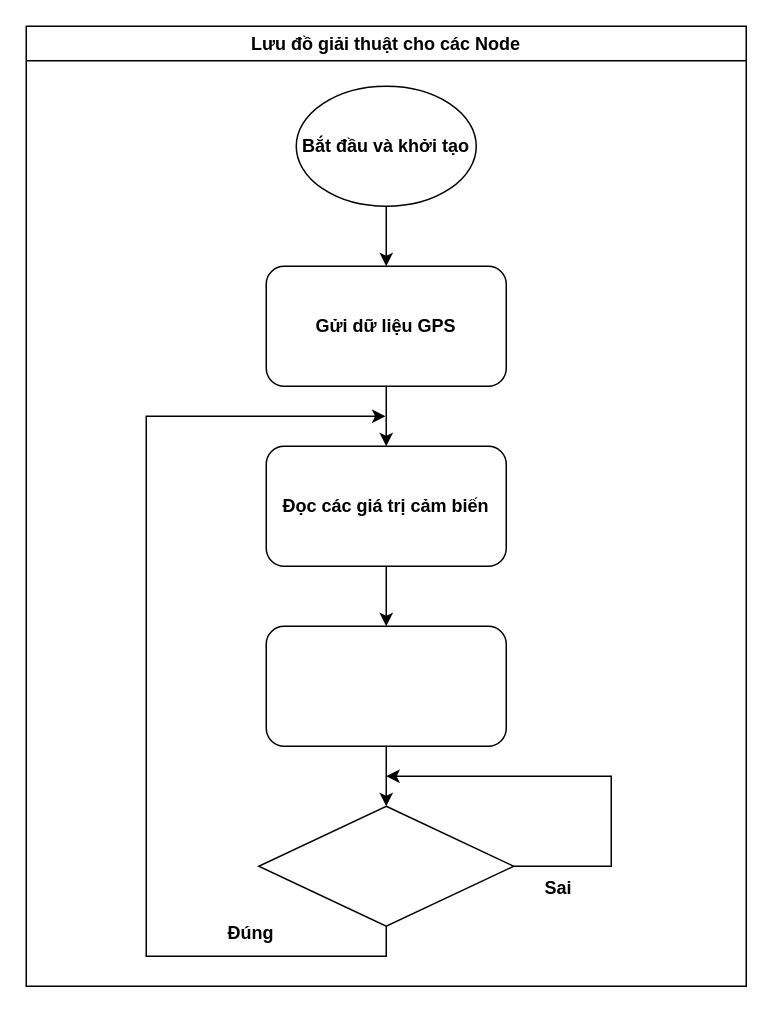
Image size: 773x1013. Some labels were removed from this diagram. The shapes that lost their labels are listed below. From the top down, each one's box as (x1, y1, x2, y2) in pixels, then its label:
(265, 625, 506, 746): Truyền về Gateway
(257, 805, 514, 926): Sau 30 phút ?
